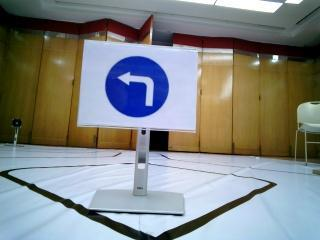left: (89, 43, 180, 128)
